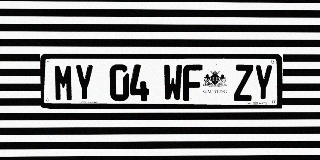0: (109, 64, 129, 101)
4: (130, 64, 149, 101)
F: (183, 64, 202, 101)
M: (54, 64, 74, 101)
W: (163, 64, 182, 101)
Y: (74, 64, 94, 101), (253, 64, 273, 101)
Z: (234, 64, 253, 101)
